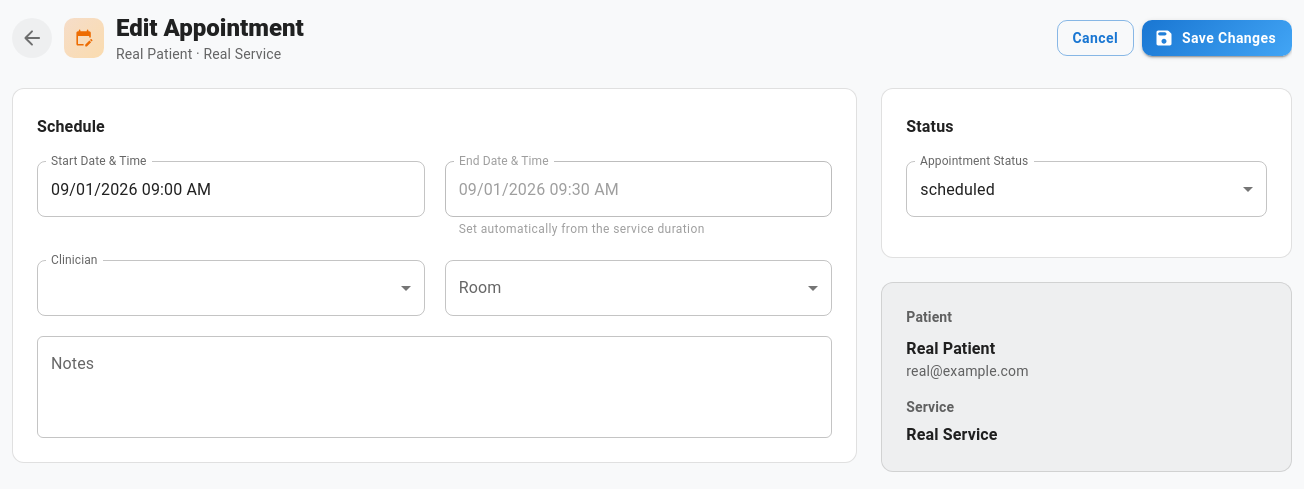
Test: appointments/edit (B-2) › a genuine empty clinicians/rooms result renders empty dropdowns, not fabricated mock rows
Check: the text "Real Patient" is shown, box [906,339,995,358]
Press the mouse on the dropdown named "Clinician" next to "Clinician" at (231, 288), box [37,260,425,316]
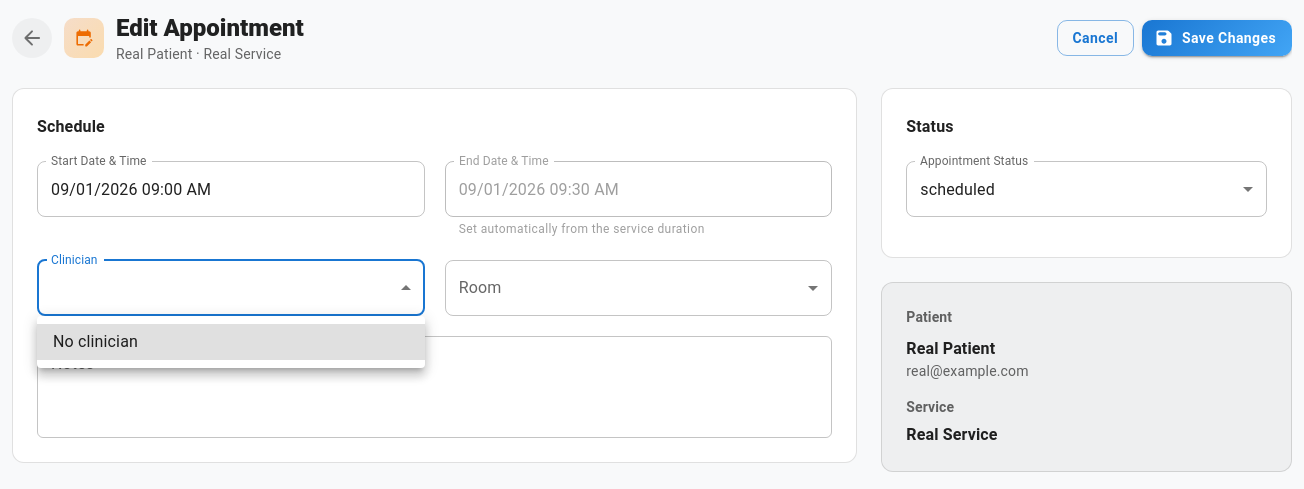
Check: the number of options is 1, box [37,324,425,360]
